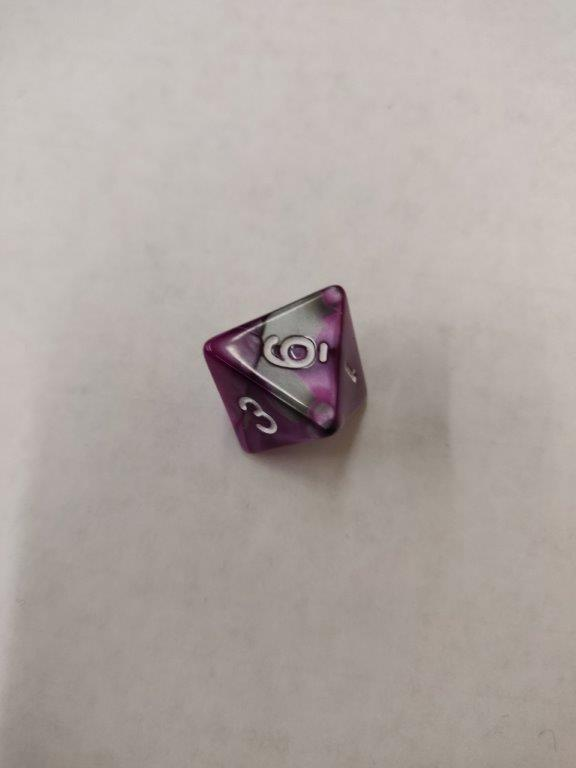d8-6: (199, 283, 368, 457)
